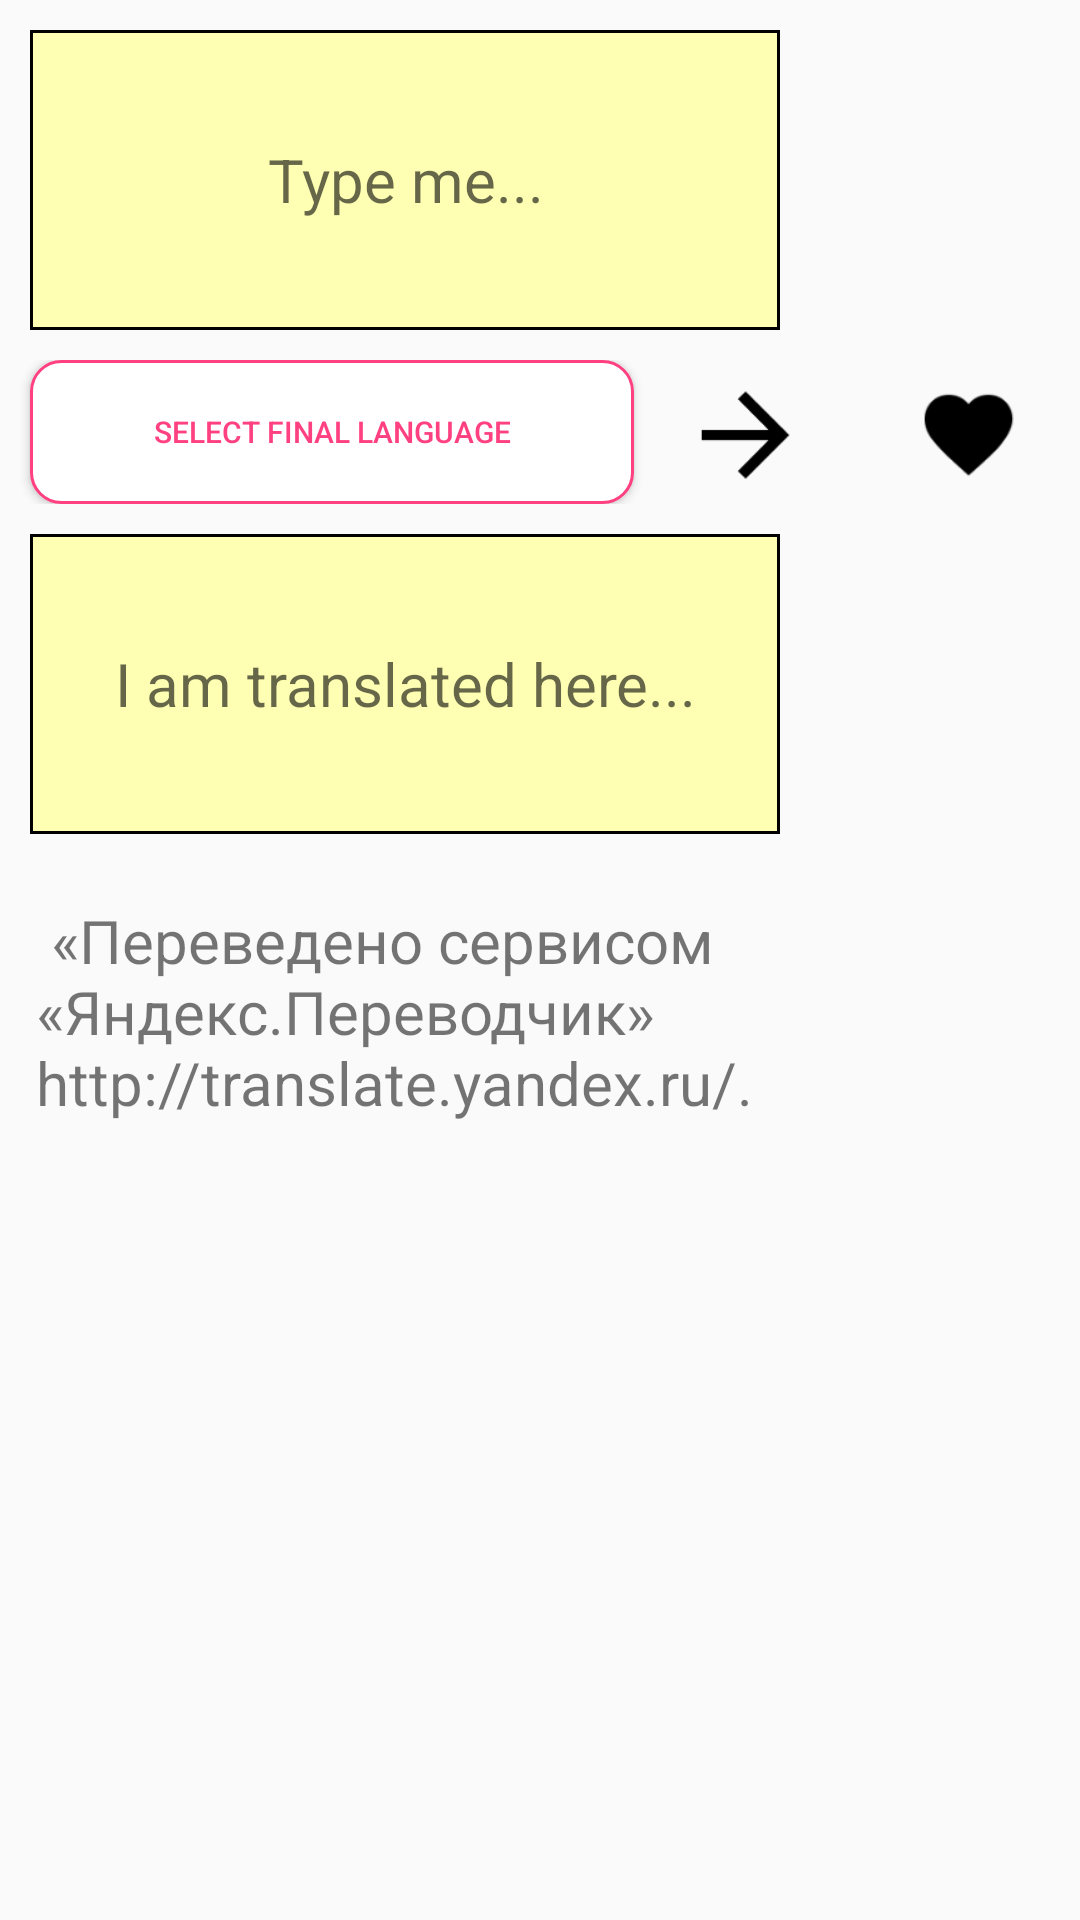

Where icons sit on this 1080*1920 app screen, as (x1, y1, x2, y2):
favorite: (924, 394, 1014, 476)
to select lang: (701, 391, 790, 479)
